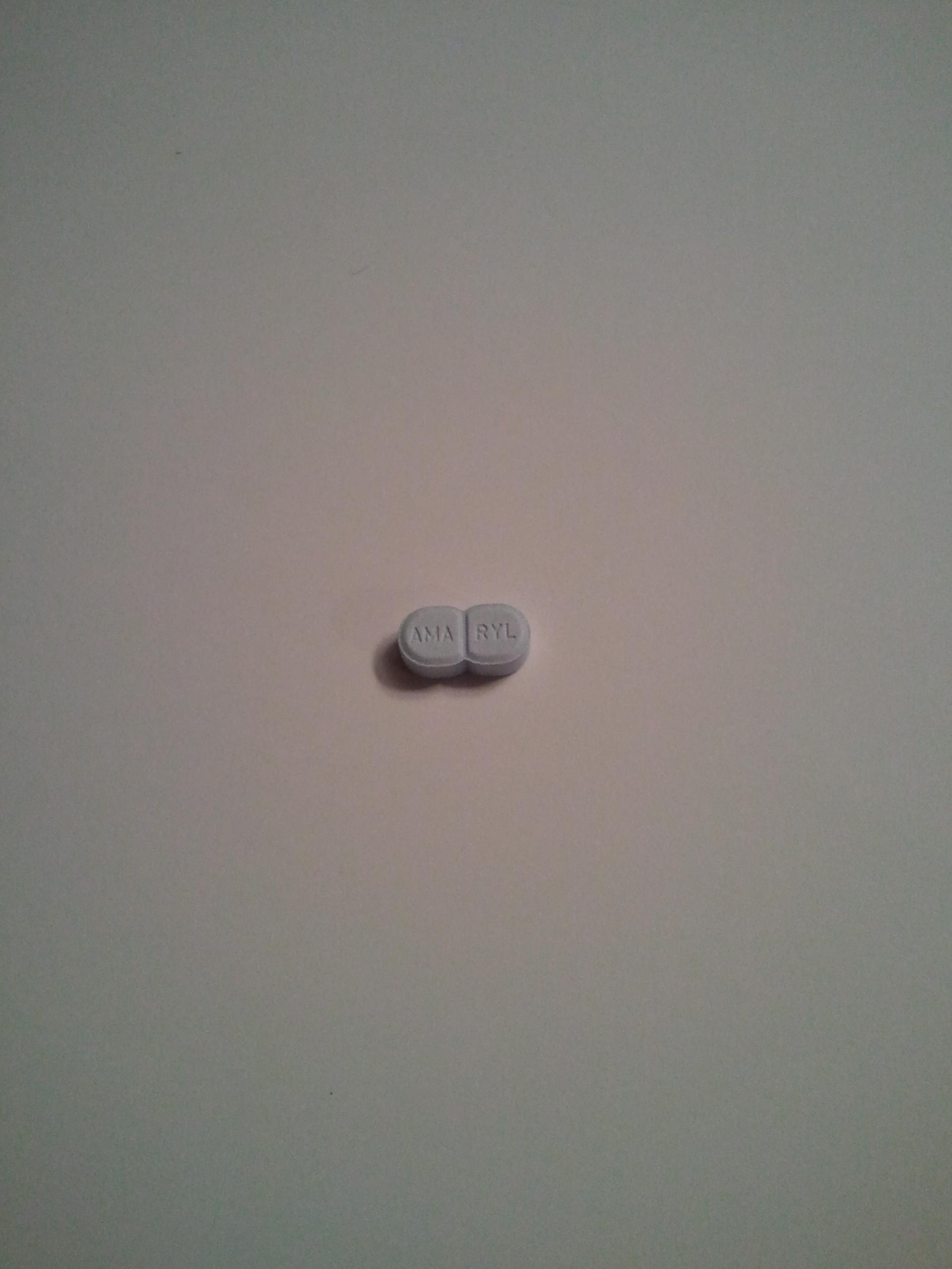Pill: (377, 590, 542, 697)
